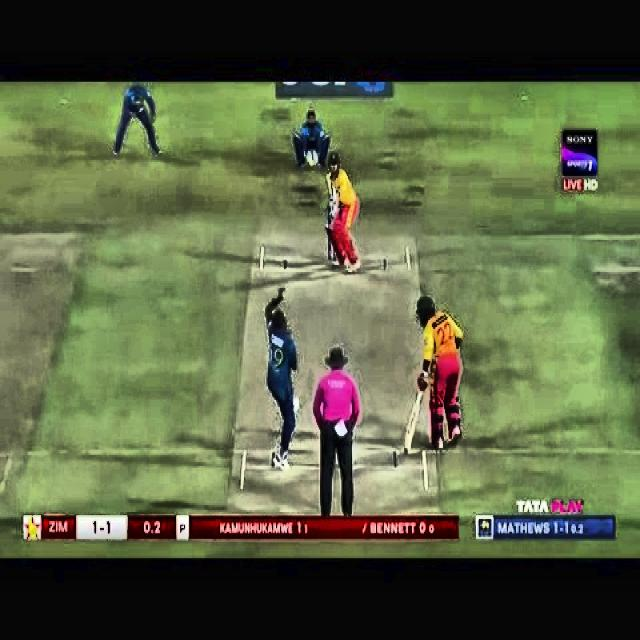Left-stump: (328, 238, 330, 260)
Middle-stump: (334, 247, 337, 260)
